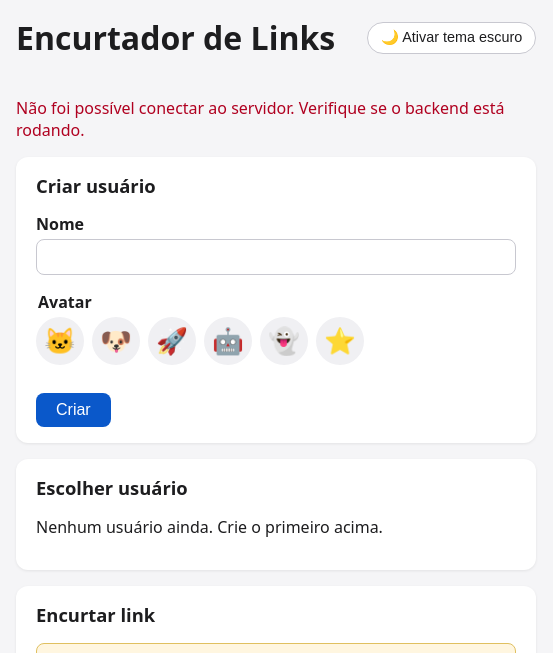
Test case: modo da camada de API › API real com backend fora do ar: a tela mostra a falha de rede e não quebra
Check: the message reads "Não foi possível conectar ao servidor. Verifique se o backend está rodando.", box [16,97,504,141]
Check: the heading "Encurtador de Links" is shown, box [16,16,335,59]
# criar usuário também mostra a mensagem, sem quebrar a tela
Type "Ana" into the field labelled "Nome".
click(276, 257); type("Ana")  # box [36,239,516,275]
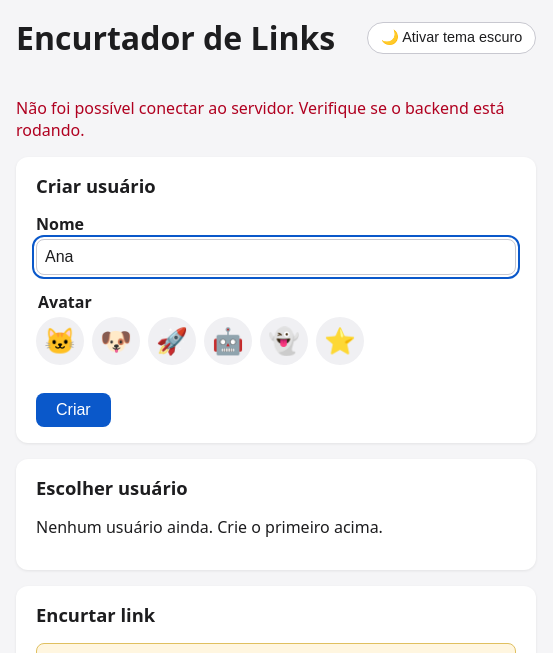
Click the button named "cat".
click(60, 341)  # box [36,317,84,365]
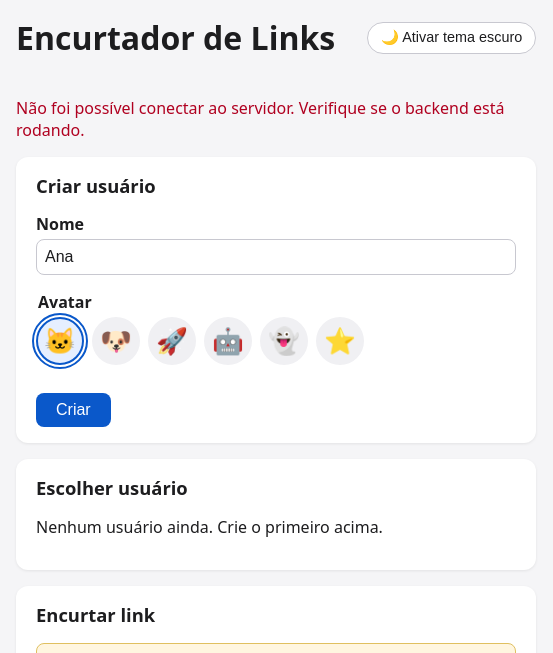
Click the button "Criar".
click(73, 410)  # box [36,393,111,427]
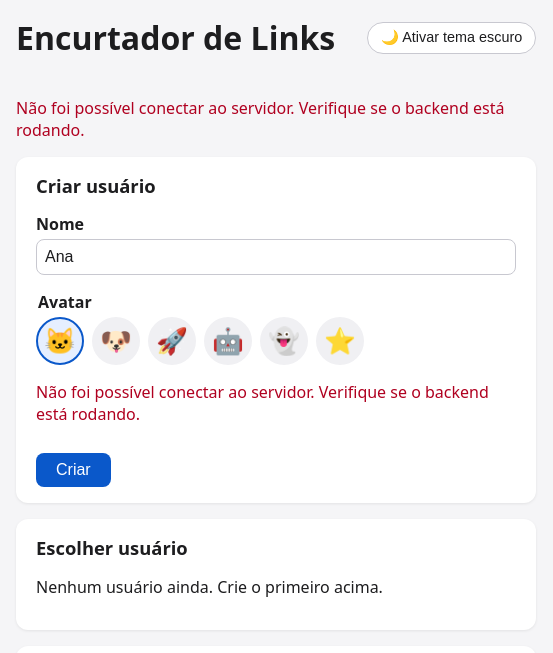
Check: the message "Não foi possível conectar ao servidor. Verifique se o backend está rodando." below "Avatar" is shown, box [36,381,489,425]
